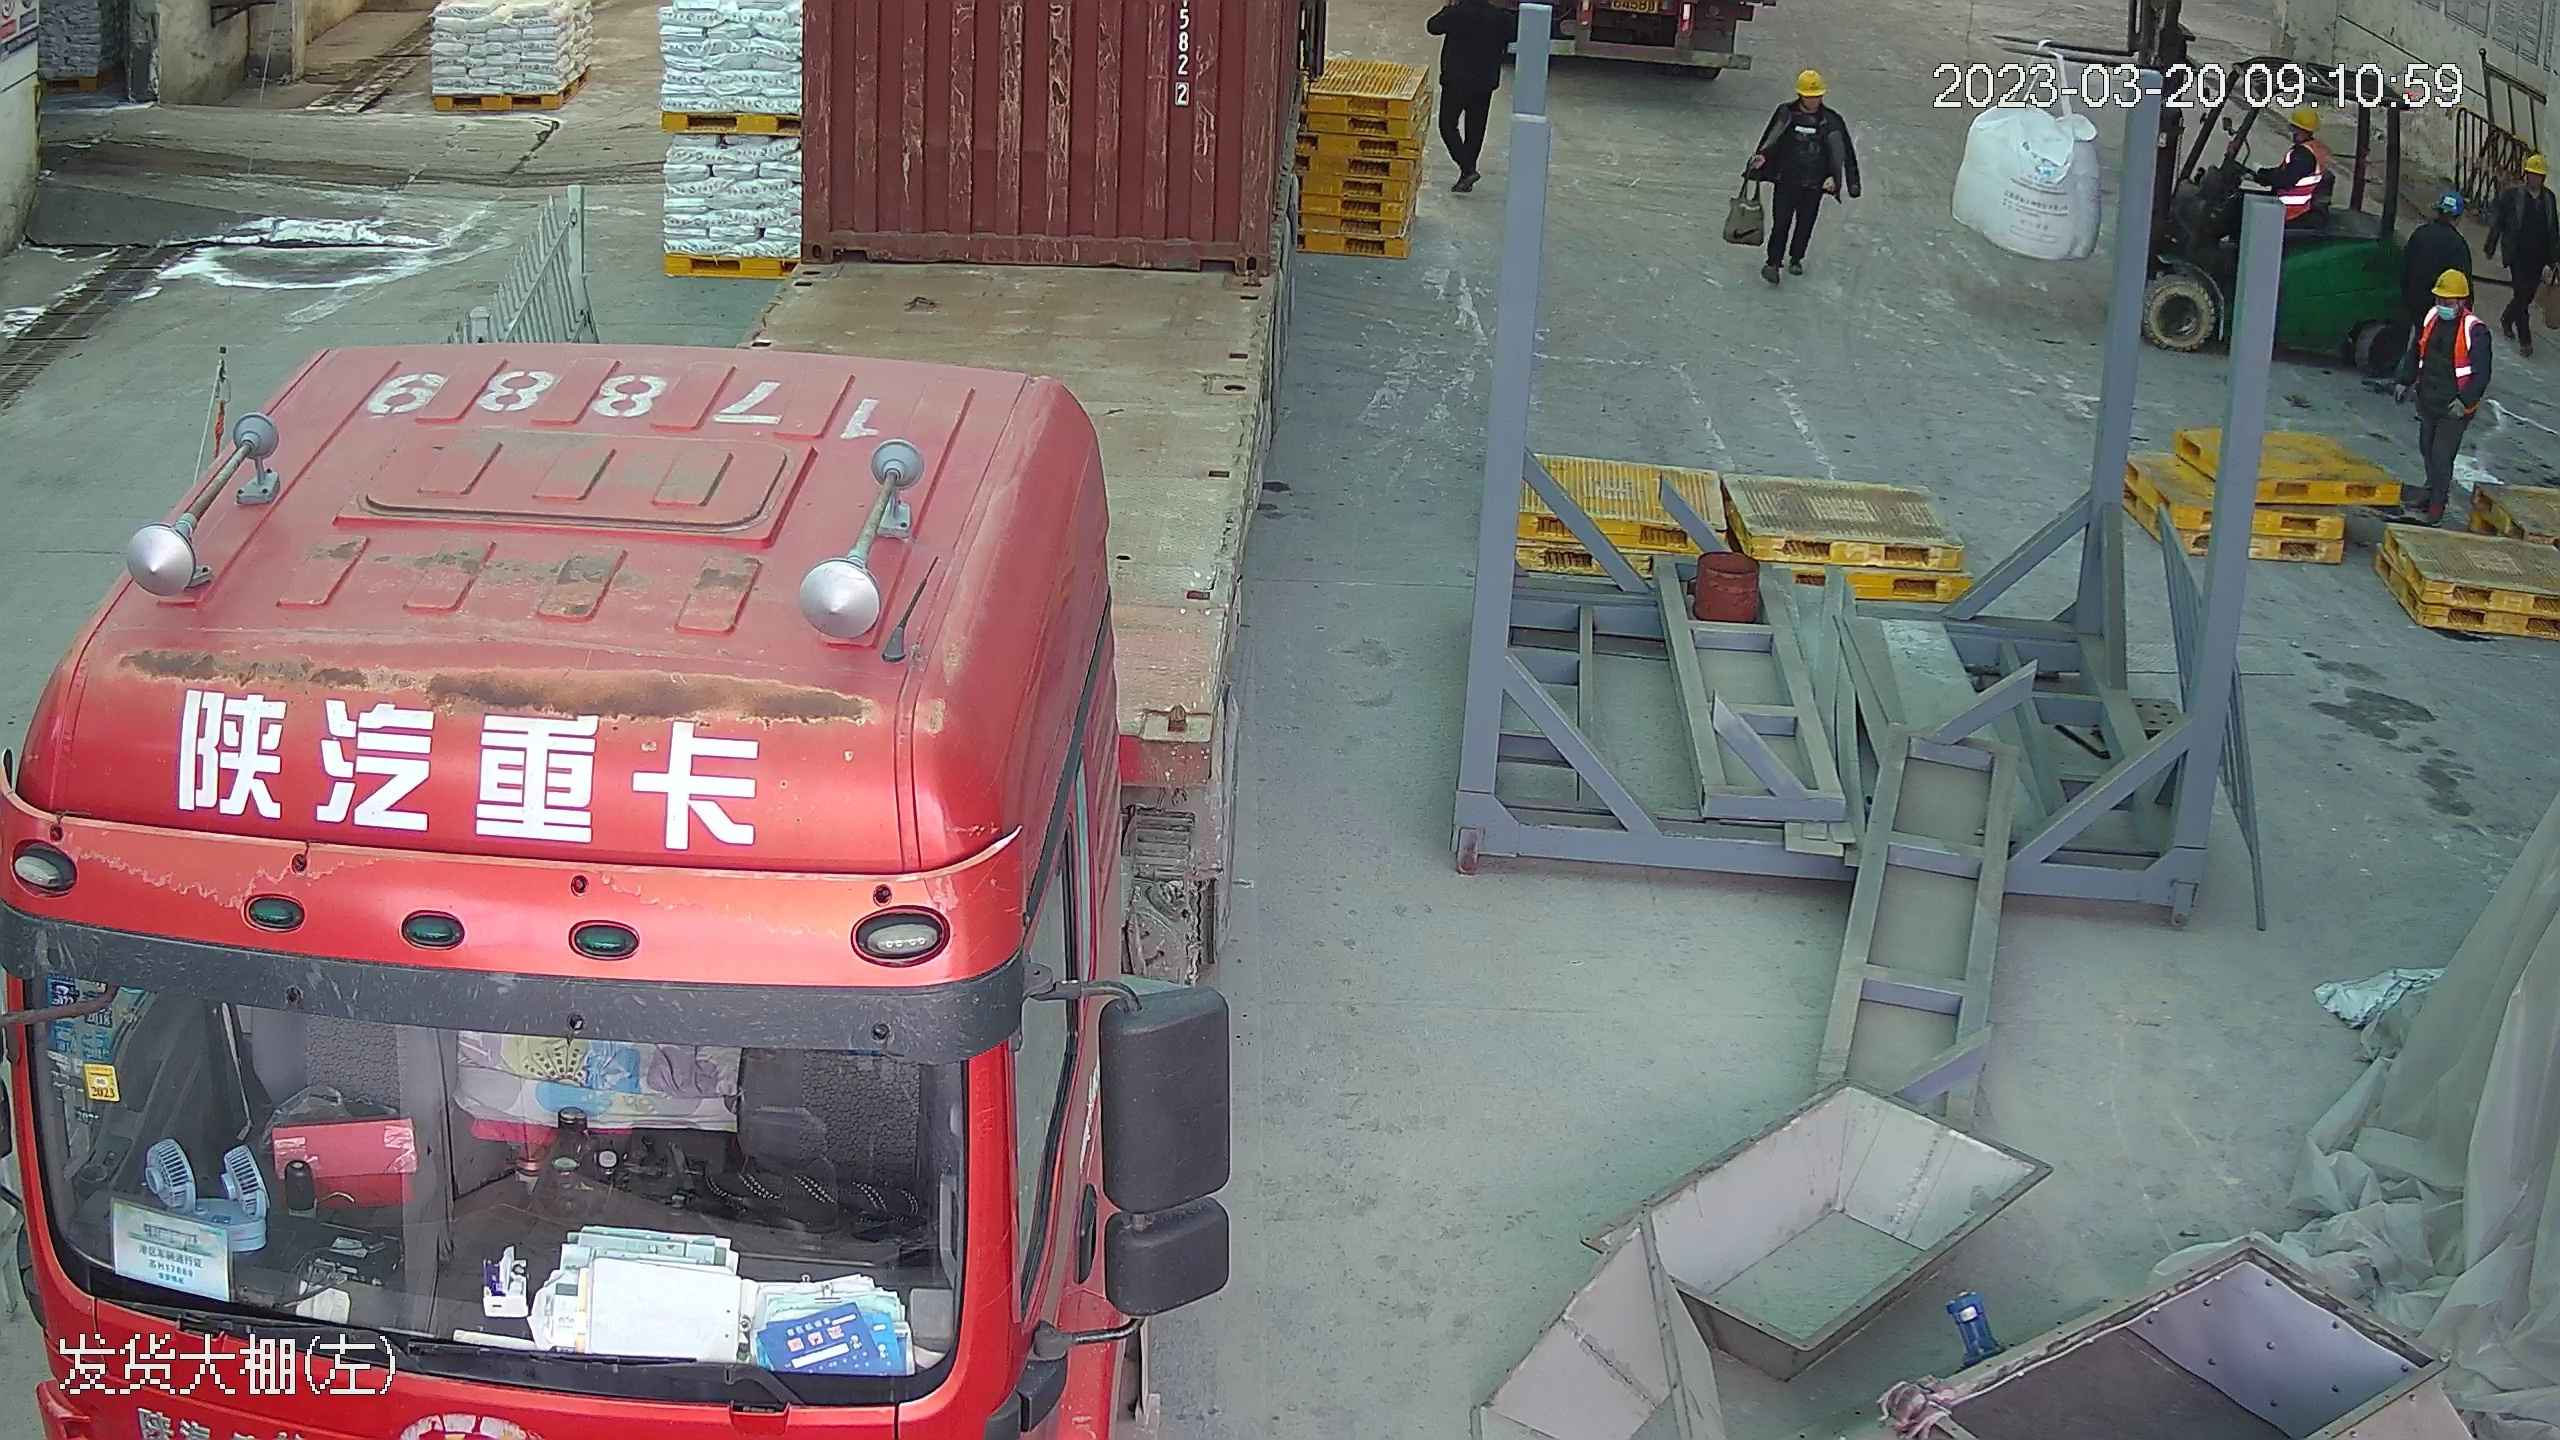head: (1767, 65, 1847, 141), (2421, 267, 2486, 348), (2411, 189, 2474, 248), (2502, 152, 2555, 218), (2276, 102, 2323, 168)
helmet: (2431, 269, 2471, 297), (1792, 66, 1828, 92), (2285, 101, 2318, 128), (2430, 189, 2459, 213), (2515, 150, 2545, 173)
people: (1742, 64, 1859, 288), (2399, 259, 2489, 526), (1426, 1, 1512, 197), (2495, 152, 2560, 352), (2234, 98, 2324, 235)
truck: (8, 13, 1284, 1440), (1544, 1, 1749, 79)
